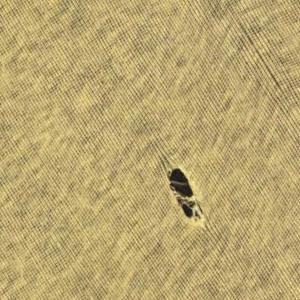hole: (164, 164, 207, 229)
